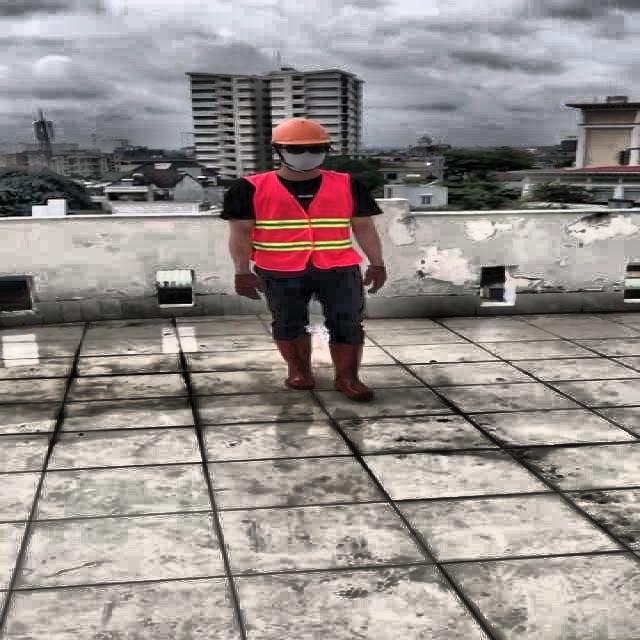safety_helmet: (265, 115, 340, 149)
safety_jacket: (245, 171, 359, 268)
